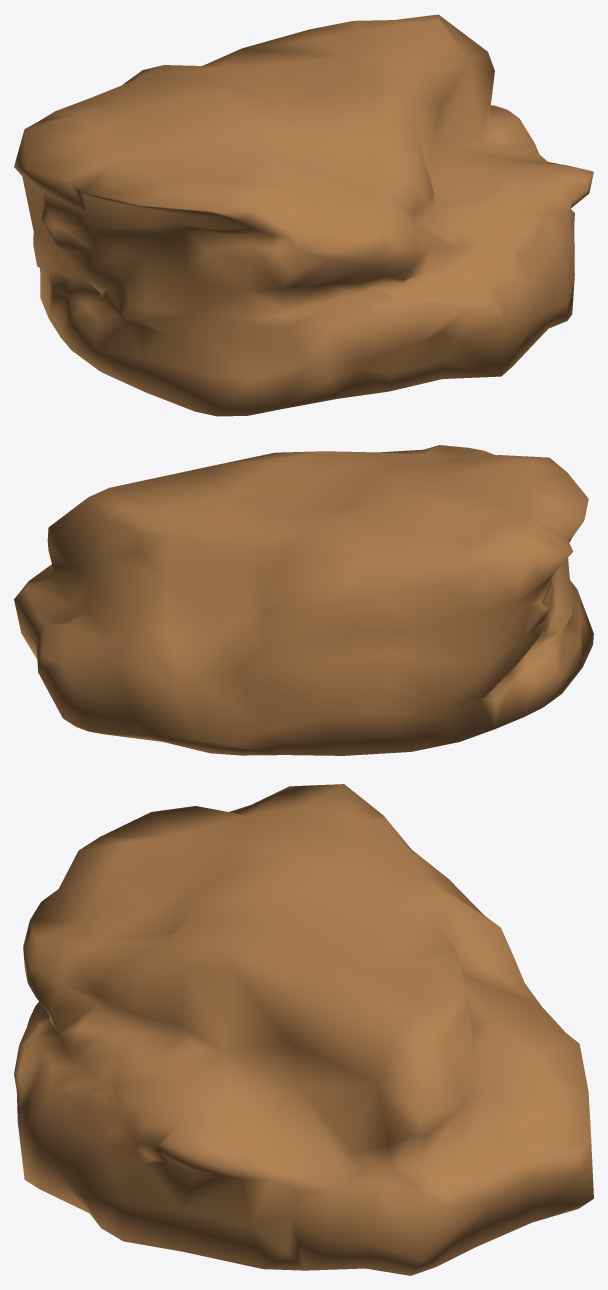
File: MSH_Rocks_Boulder_32.FBX
The picture shows the model from 3 angles, top to bottom: view 1: azimuth 30°, elevation 25°; view 2: azimuth 150°, elevation 25°; view 3: azimuth 270°, elevation 25°; orthographic projection. The views are drawn at different scales.
Parts seen in each view (by area): view 1: MESH_LOD0; view 2: MESH_LOD0; view 3: MESH_LOD0.
Boxes of the visible parts, x1,y1,x2,y2 form: MESH_LOD0: (14, 14, 593, 416); MESH_LOD0: (14, 445, 593, 755); MESH_LOD0: (14, 784, 593, 1275).
Size of what is drawn, in the model's own units: 89.11 by 36.04 by 76.82.
